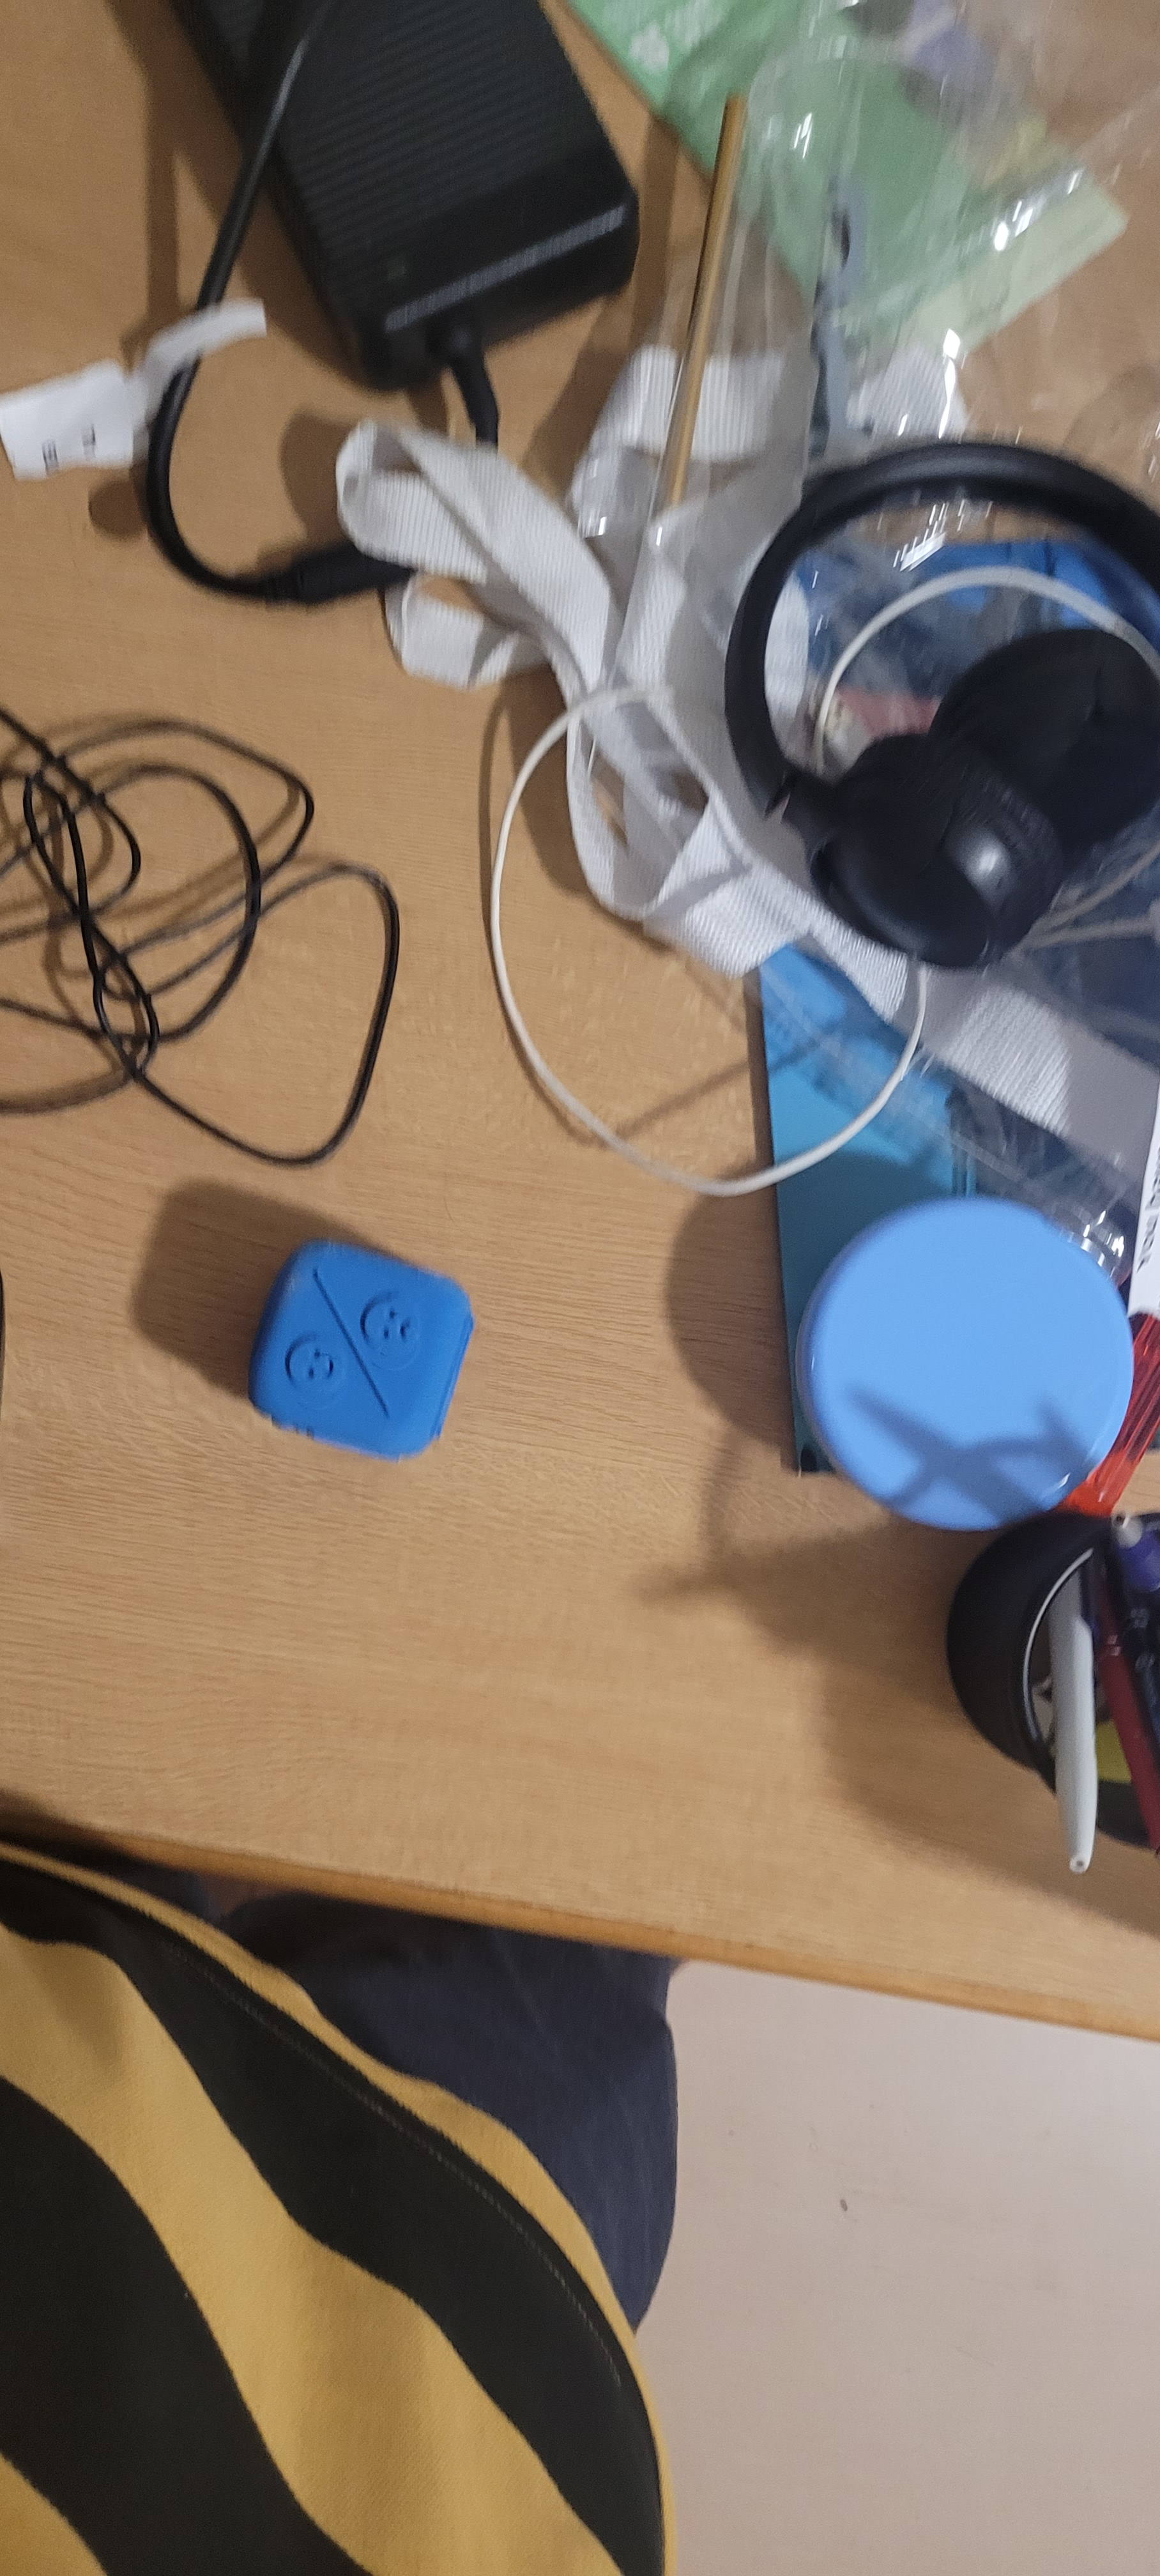Like/Dislike: (274, 1255, 447, 1433)
